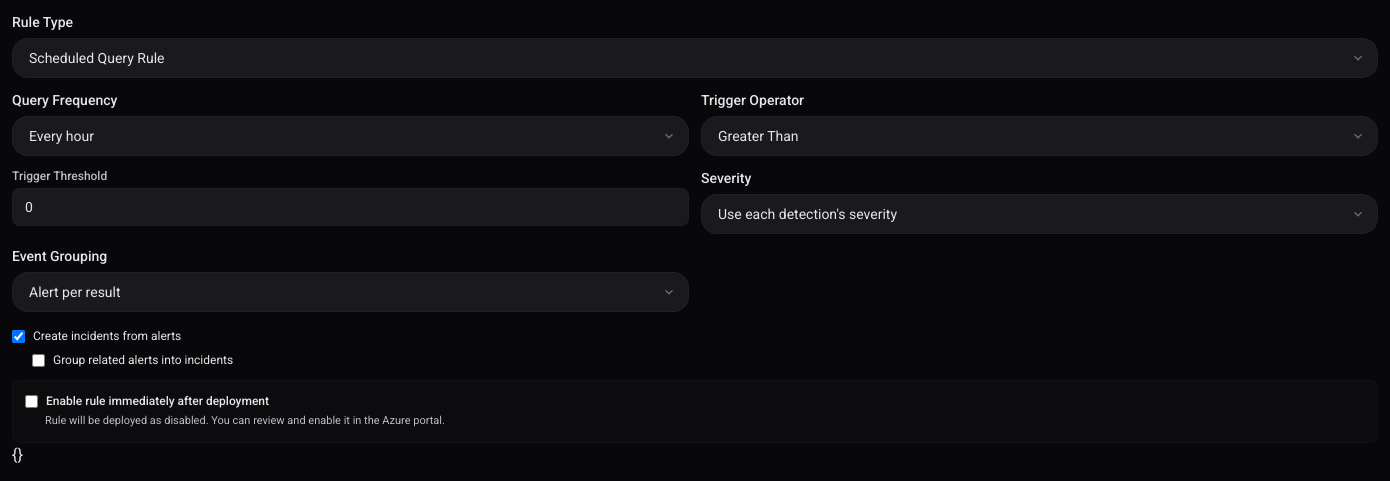
Test: keeps Sentinel lookback aligned when the custom frequency dropdown changes
This screenshot has width=1390, height=481.
What coordinates should you click on to do the following:
click the dropdown named "Query Frequency"
I would click on:
 (62, 136)
Its box is [12,116,689,156].
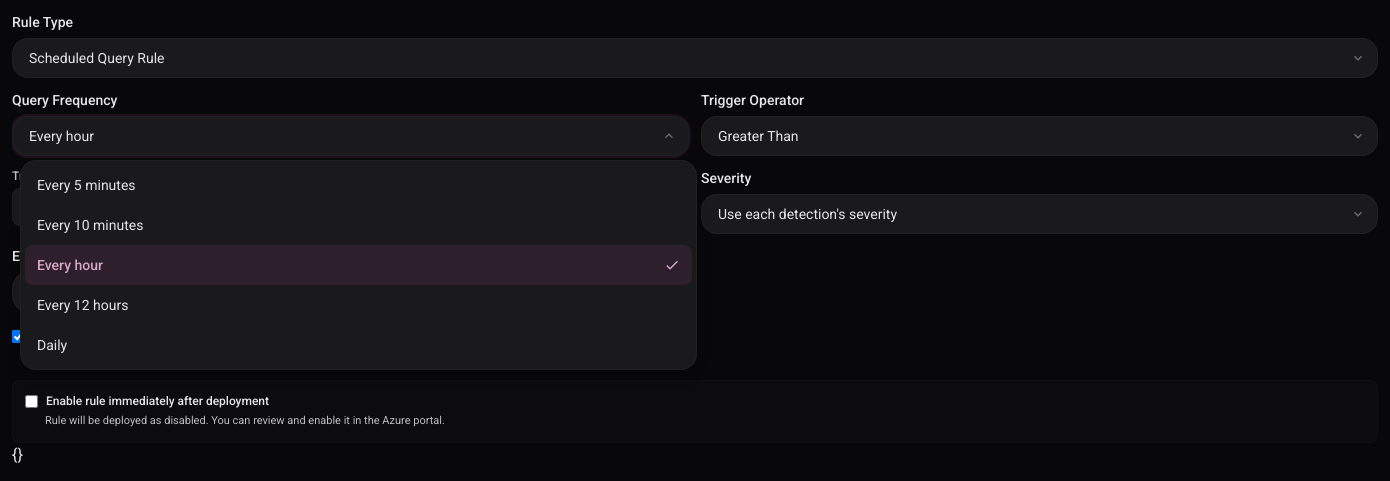
What coordinates should you click on to do the following:
click the option "Every 12 hours"
I would click on:
 (83, 305)
Its box is [25,285,692,325].
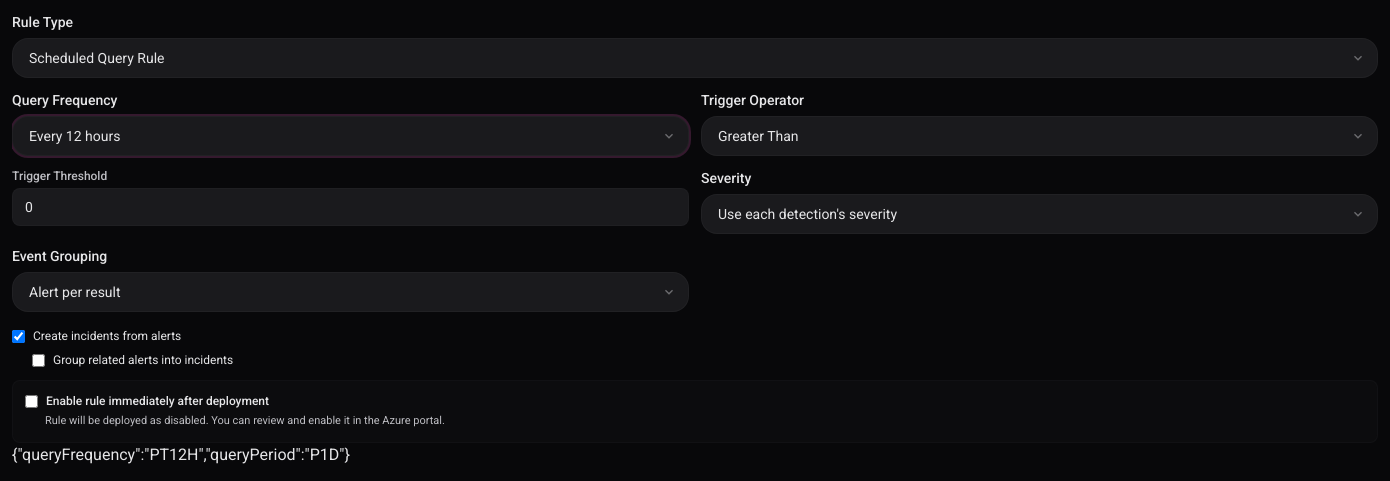
Now the text "{\"queryFrequency\":\"PT12H\",\"queryPeriod\":\"P1D\"}" shows "\"queryFrequency\":\"PT12H\",\"queryPeriod\":\"P1D\"", box [12,444,350,464]
